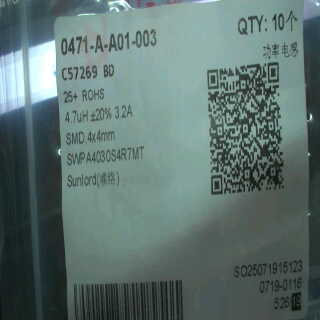4.7uH: (62, 105, 91, 126)
